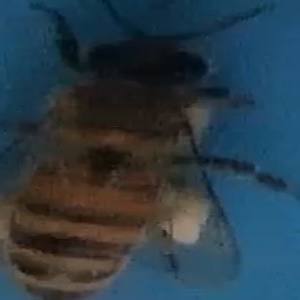bee: (17, 7, 285, 300)
